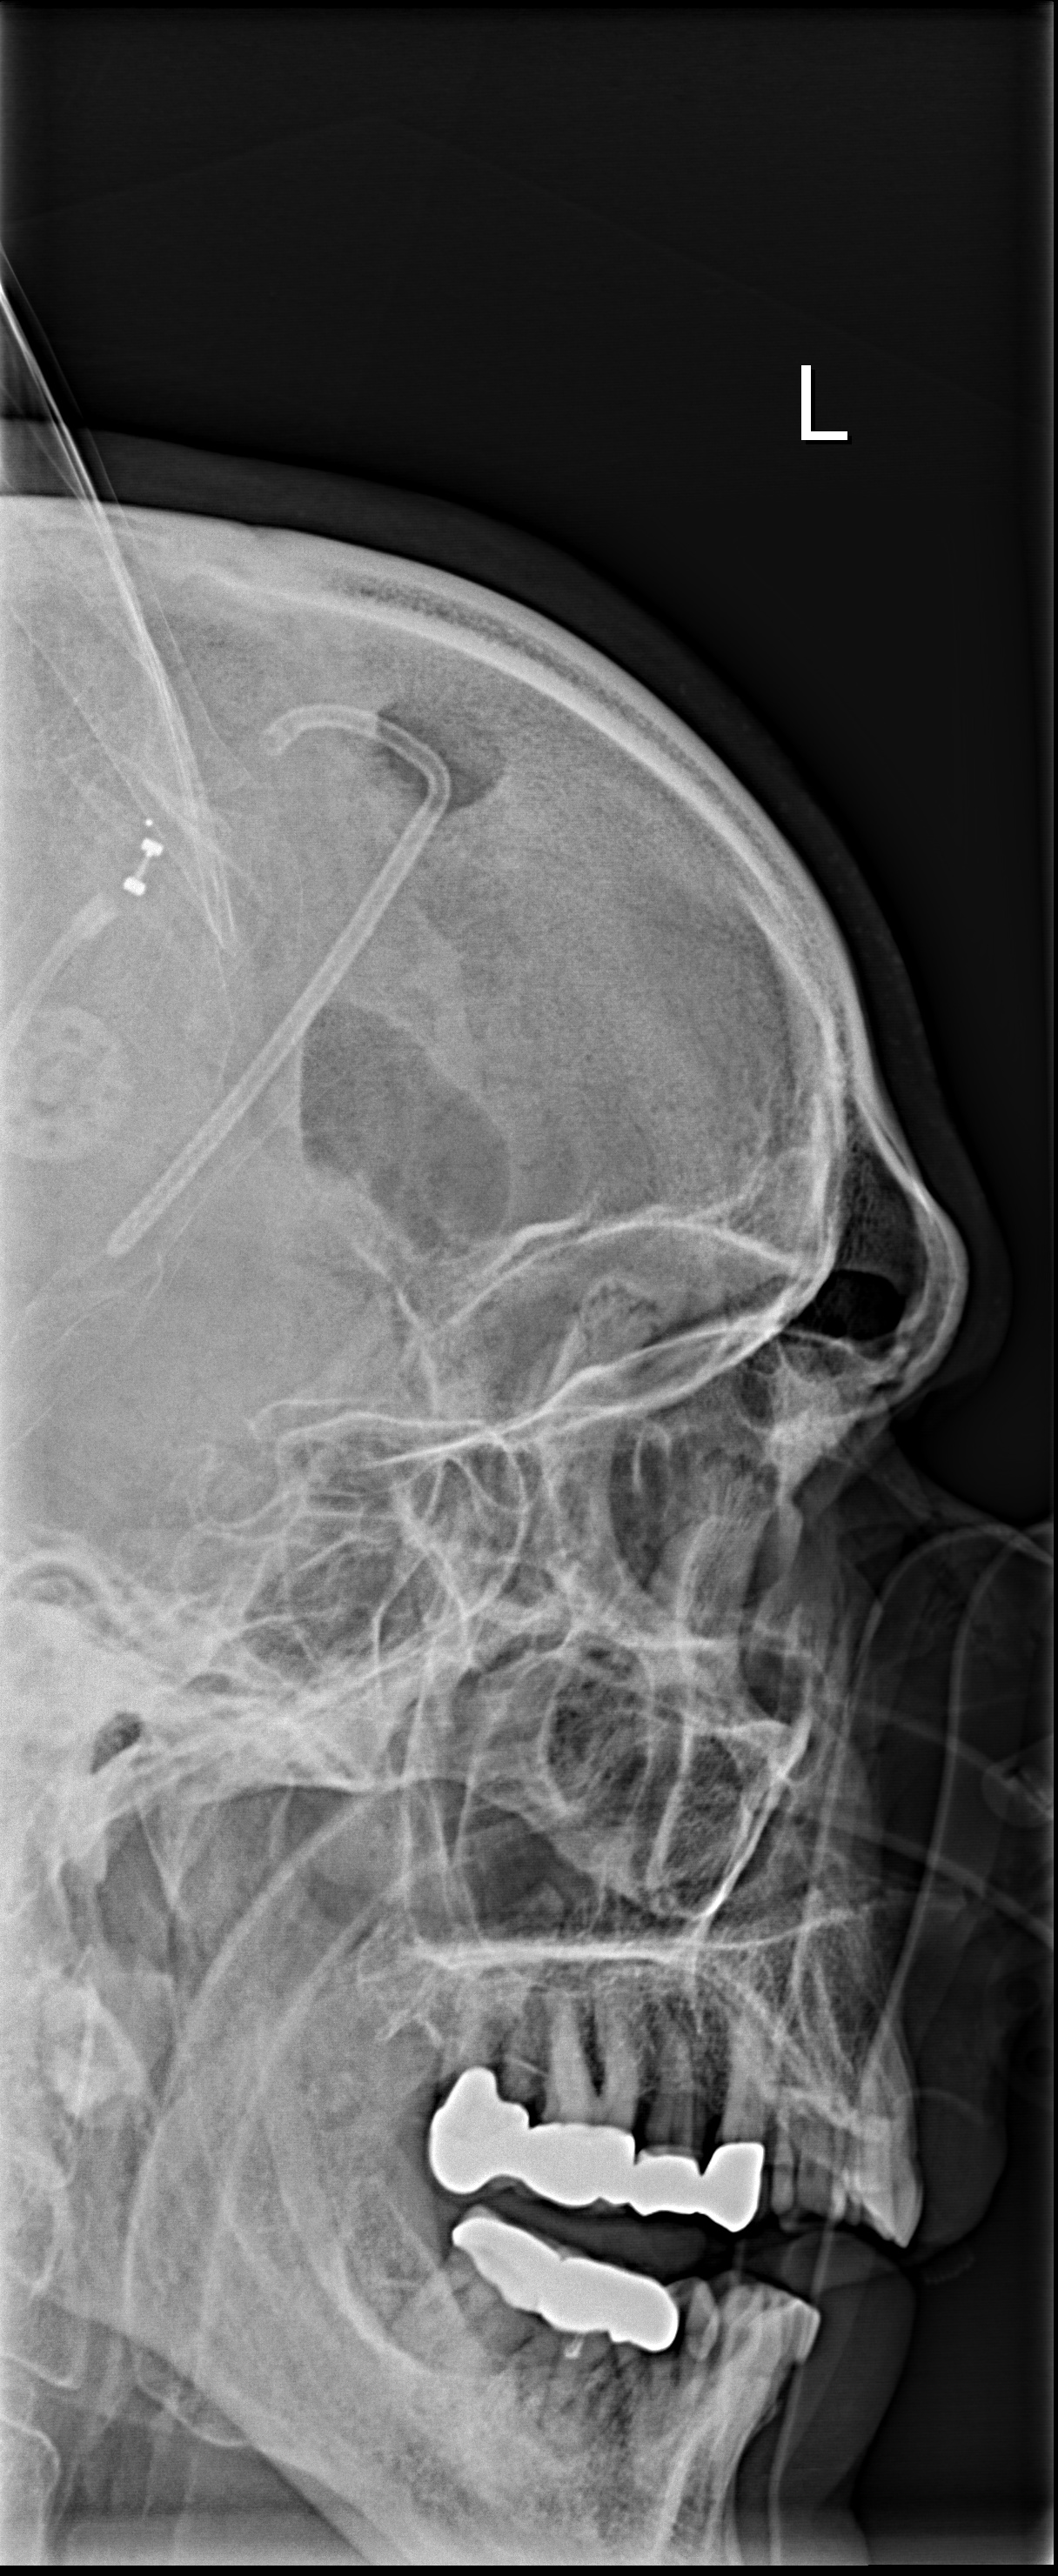Codman Certas: (72, 793, 215, 941)
